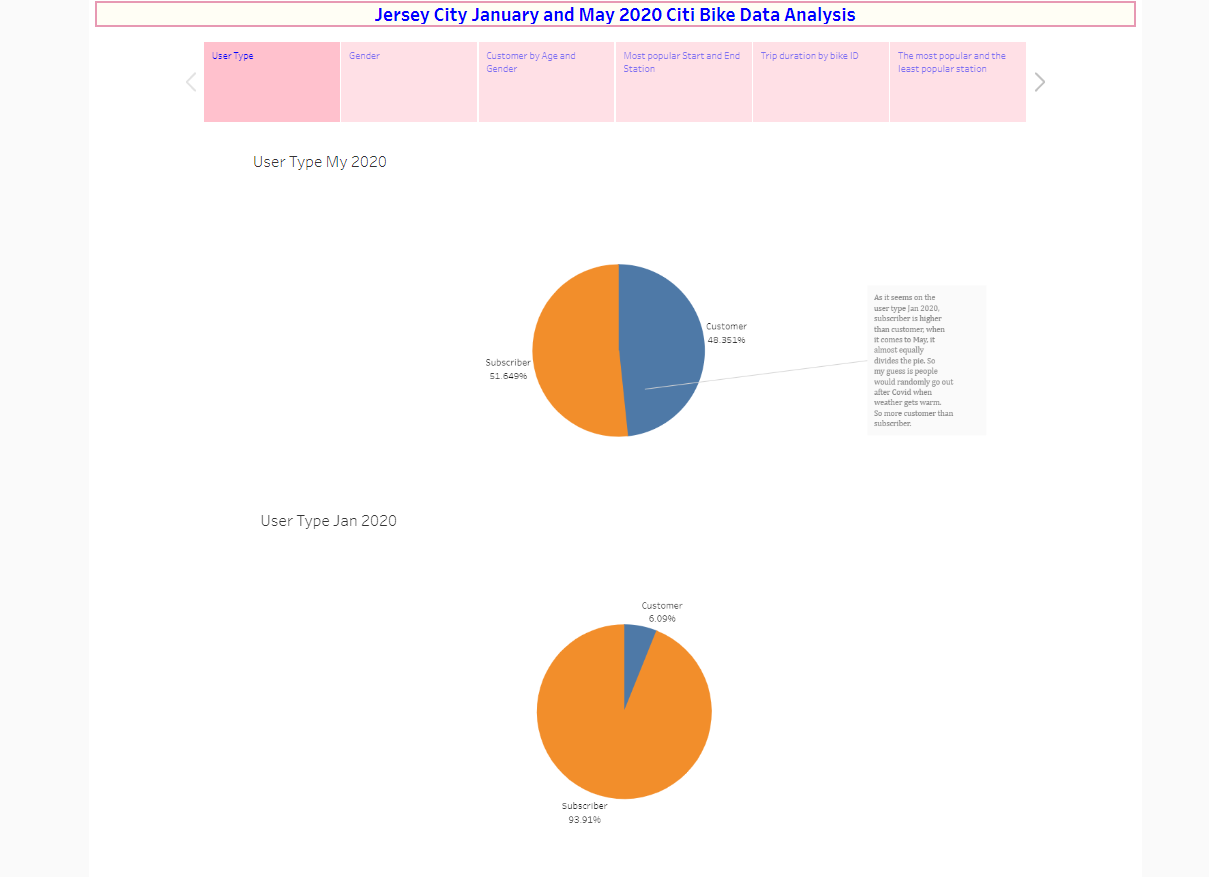

Layout of this report page (visuals, bound fields, positions):
{"tool":"tableau","page":{"name":"Dashboard 2","canvas":[1000,1160],"ordinal":1},"visuals":[{"type":"worksheet","title":"User Type May 2020","mark":"Pie","box":[13.3,21,982.7,503]},{"type":"worksheet","title":"User Type Jan 2020","mark":"Pie","box":[22.7,499,978.7,509]}]}

Visuals, with their boxes on the page's 1000x1160 design canvas (x1, y1, x2, y2). These are canvas units, not pixel positions in the 1209x877 screenshot, which may show the page scaled, cropped or inside an application window:
"User Type May 2020" worksheet (Pie marks): [left=13, top=21, right=996, bottom=524]
"User Type Jan 2020" worksheet (Pie marks): [left=23, top=499, right=1001, bottom=1008]
